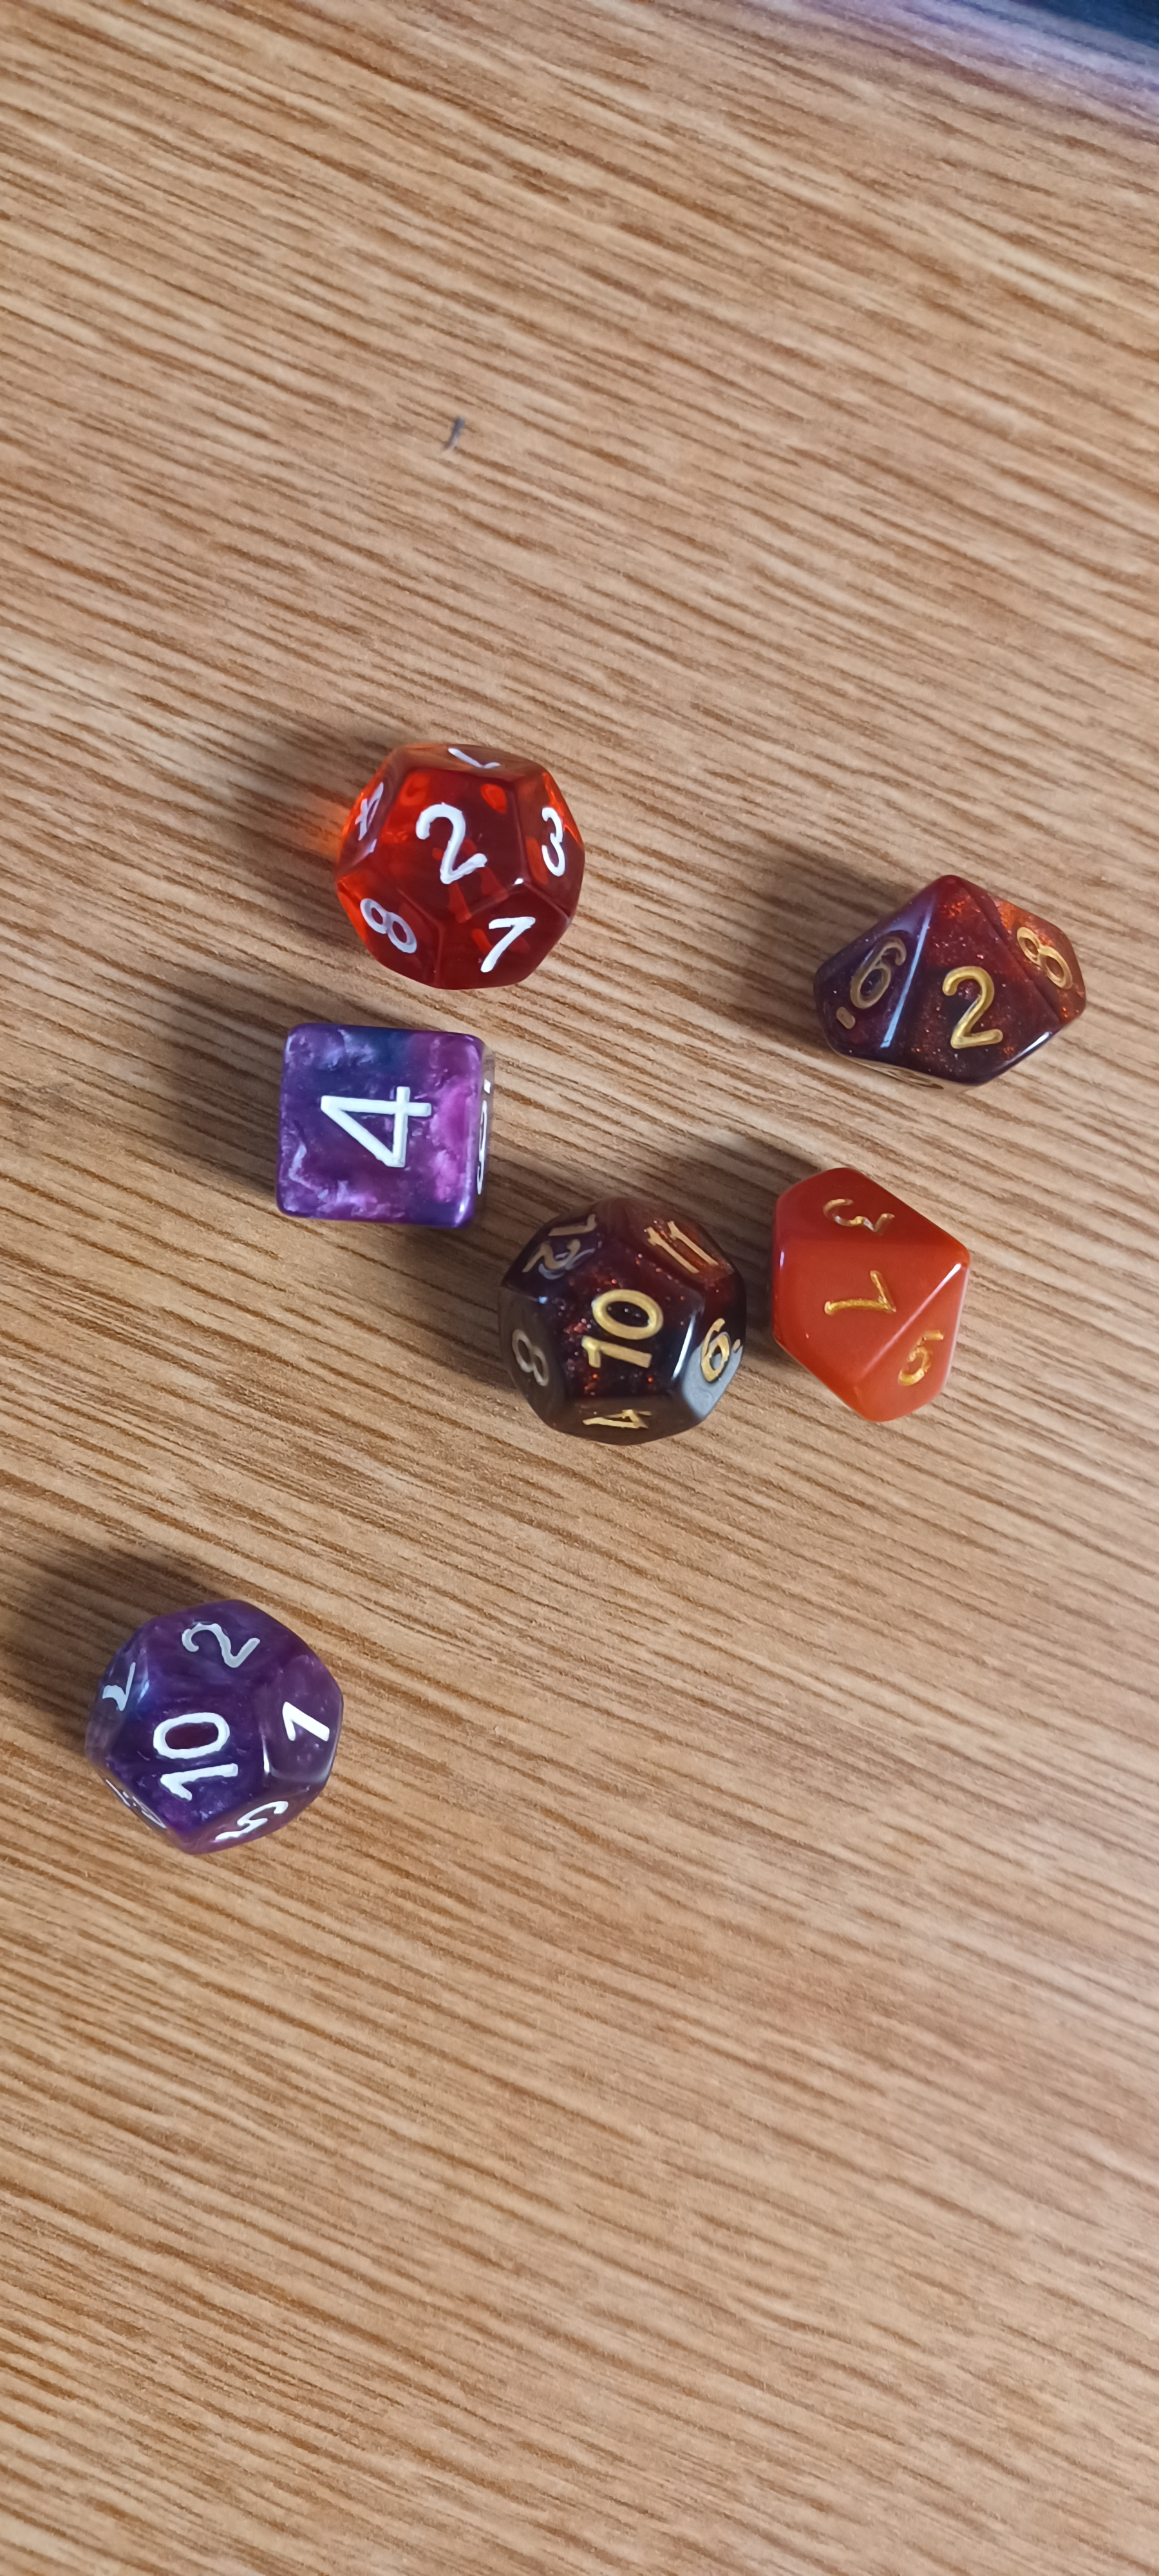four: (240, 991, 511, 1280)
seven: (732, 1125, 998, 1436)
ten: (77, 1576, 383, 1861), (506, 1186, 757, 1456)
two: (300, 716, 629, 1005), (783, 844, 1134, 1109)
